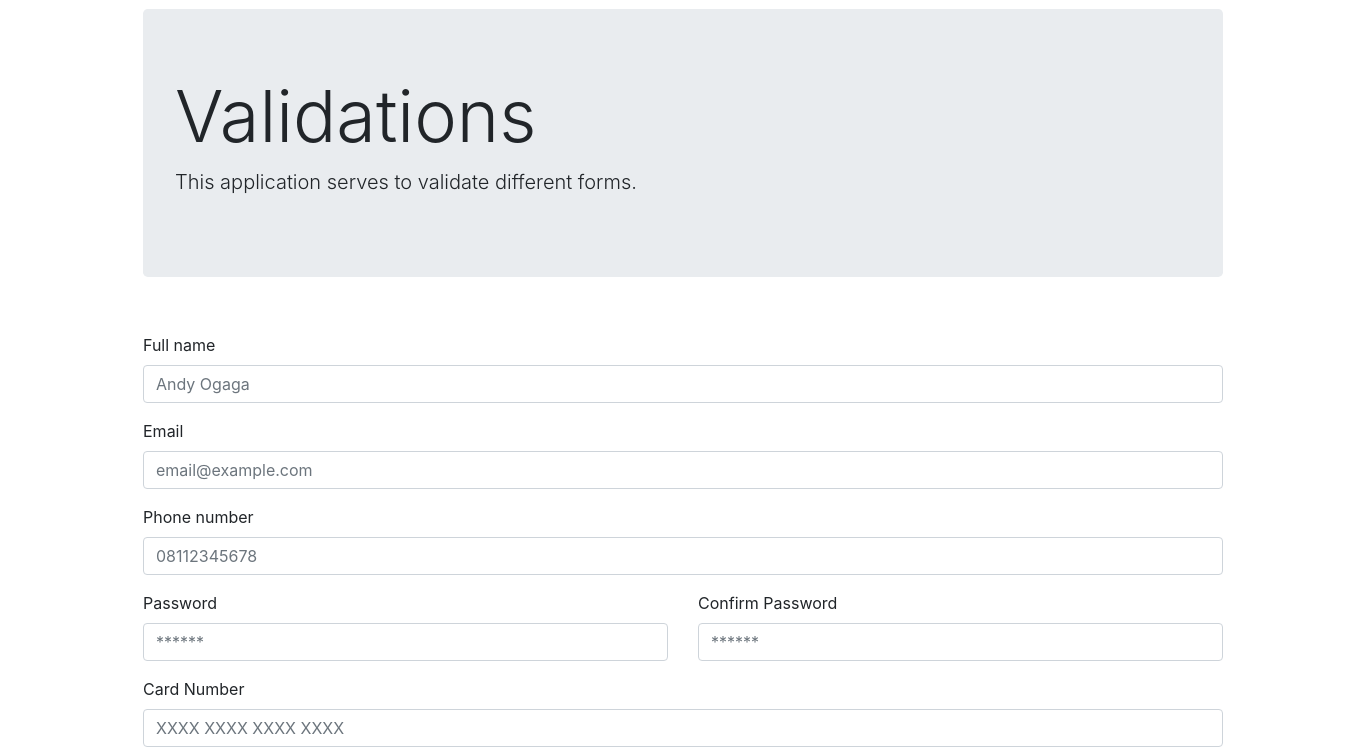
Test: Home Tests › should not accept incorrect email
The image size is (1366, 753).
Type "test@email" into the field labelled "Email" at [683, 470], box [143,451,1223,489]
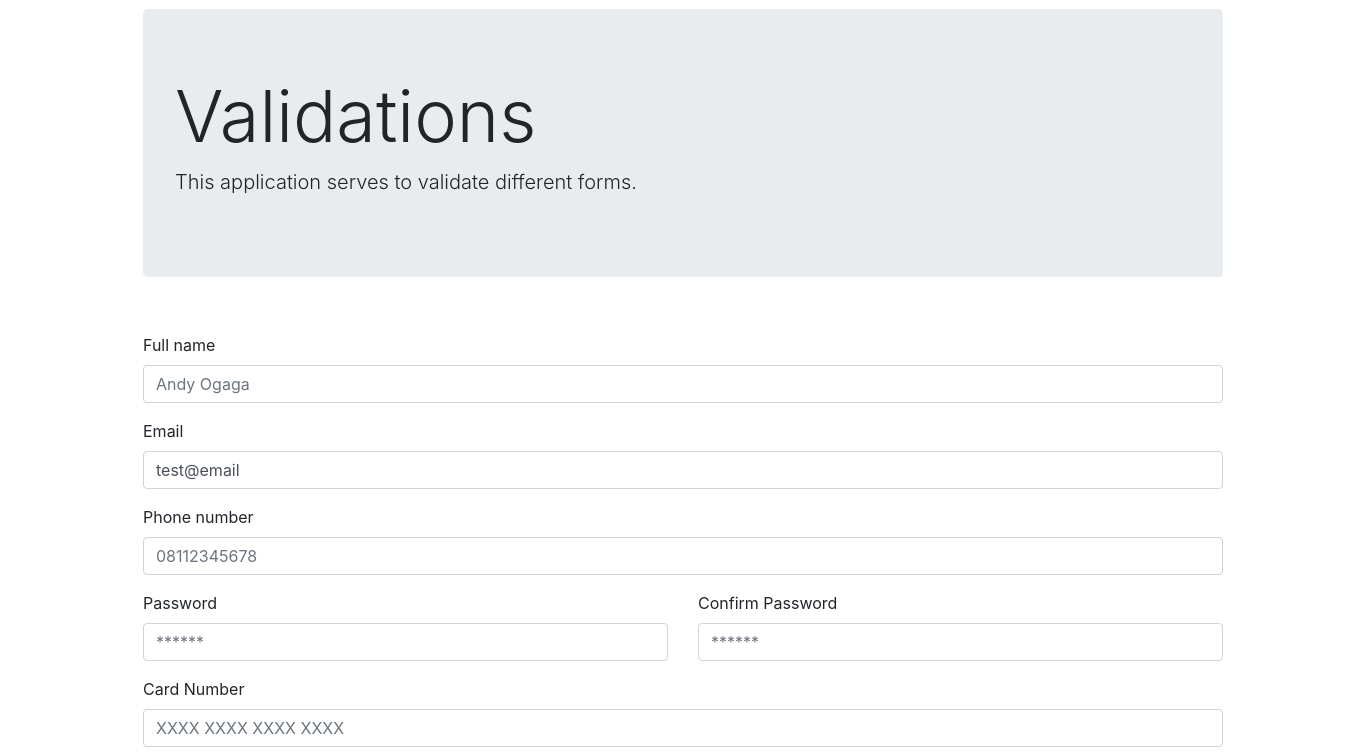
Leave the field labelled "Email", box [143,451,1223,489]
(page scrolled)
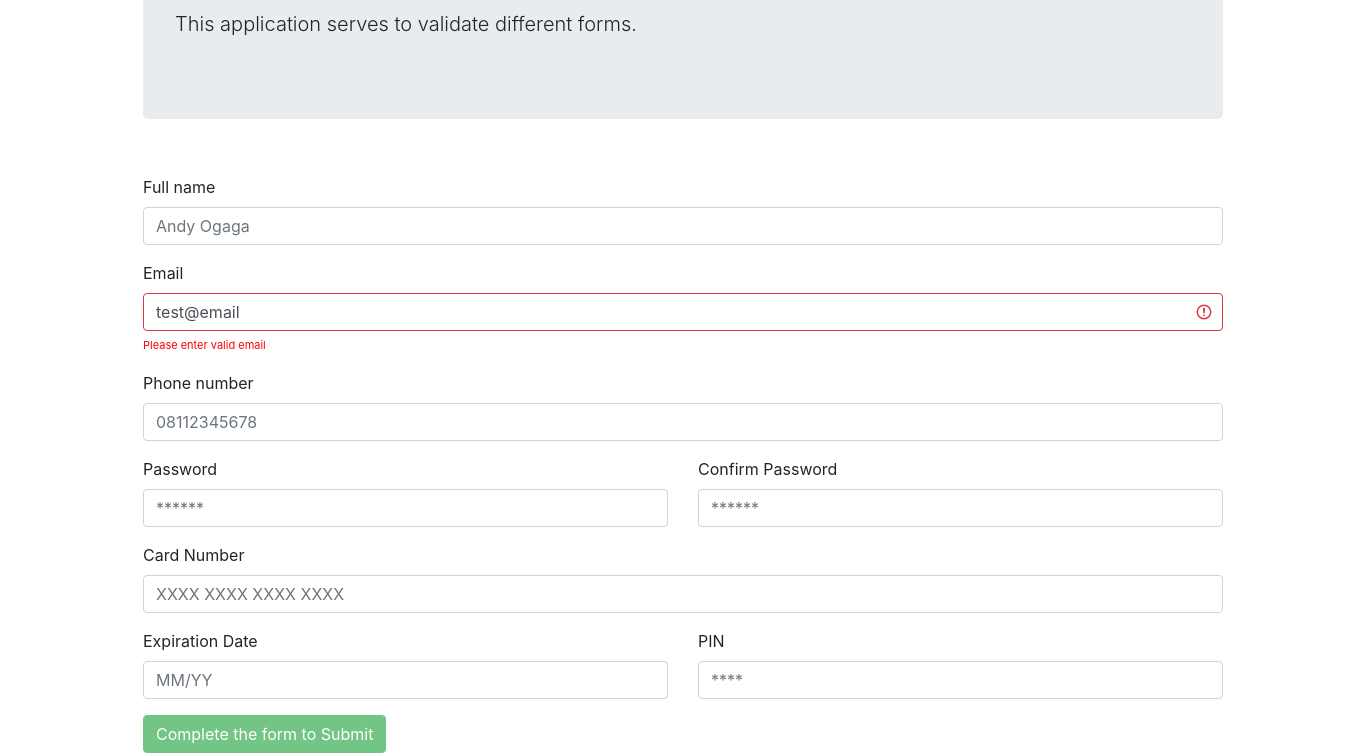
Expected: the button "Complete the form to Submit" is shown, [143,715,386,752]
Now the text with test id "email-error" reads "Please enter valid email", box [143,338,266,352]
